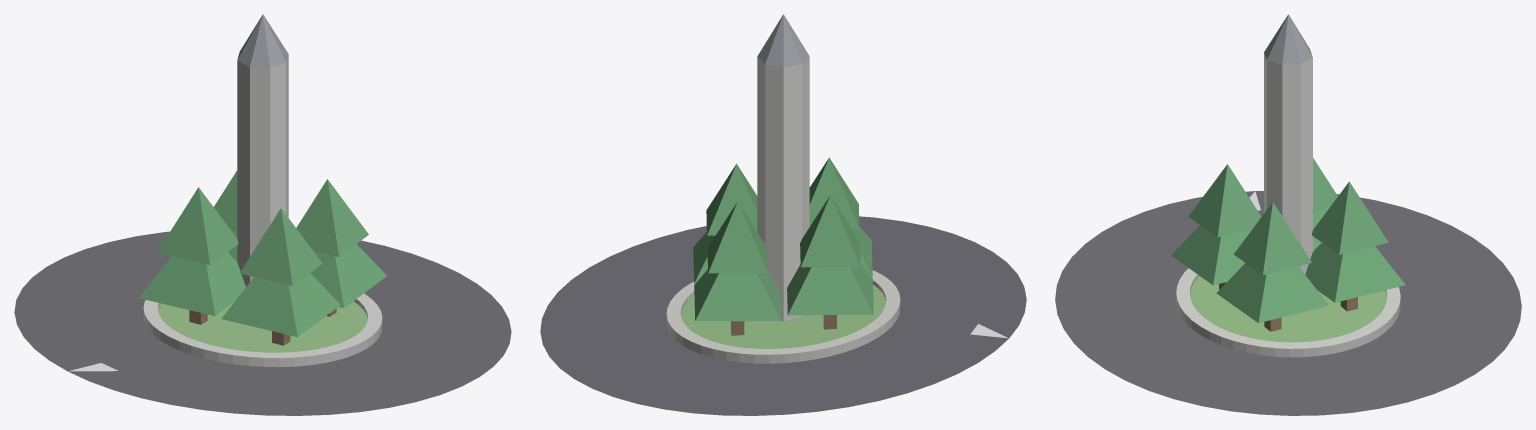
File: blvd-roundabout.glb
The picture shows the model from 3 angles, left to right: view 1: azimuth 30°, elevation 25°; view 2: azimuth 150°, elevation 25°; view 3: azimuth 270°, elevation 25°; orthographic projection. The views are drawn at different scales.
Parts seen in each view (by area): view 1: blvd-roundabout; view 2: blvd-roundabout; view 3: blvd-roundabout.
Part boxes in pixels (left/top/right/bottom): blvd-roundabout: left=14, top=14, right=511, bottom=415; blvd-roundabout: left=540, top=14, right=1026, bottom=415; blvd-roundabout: left=1055, top=14, right=1521, bottom=415.
Bounding box in the file's own units: 52 × 37.37 × 52.
